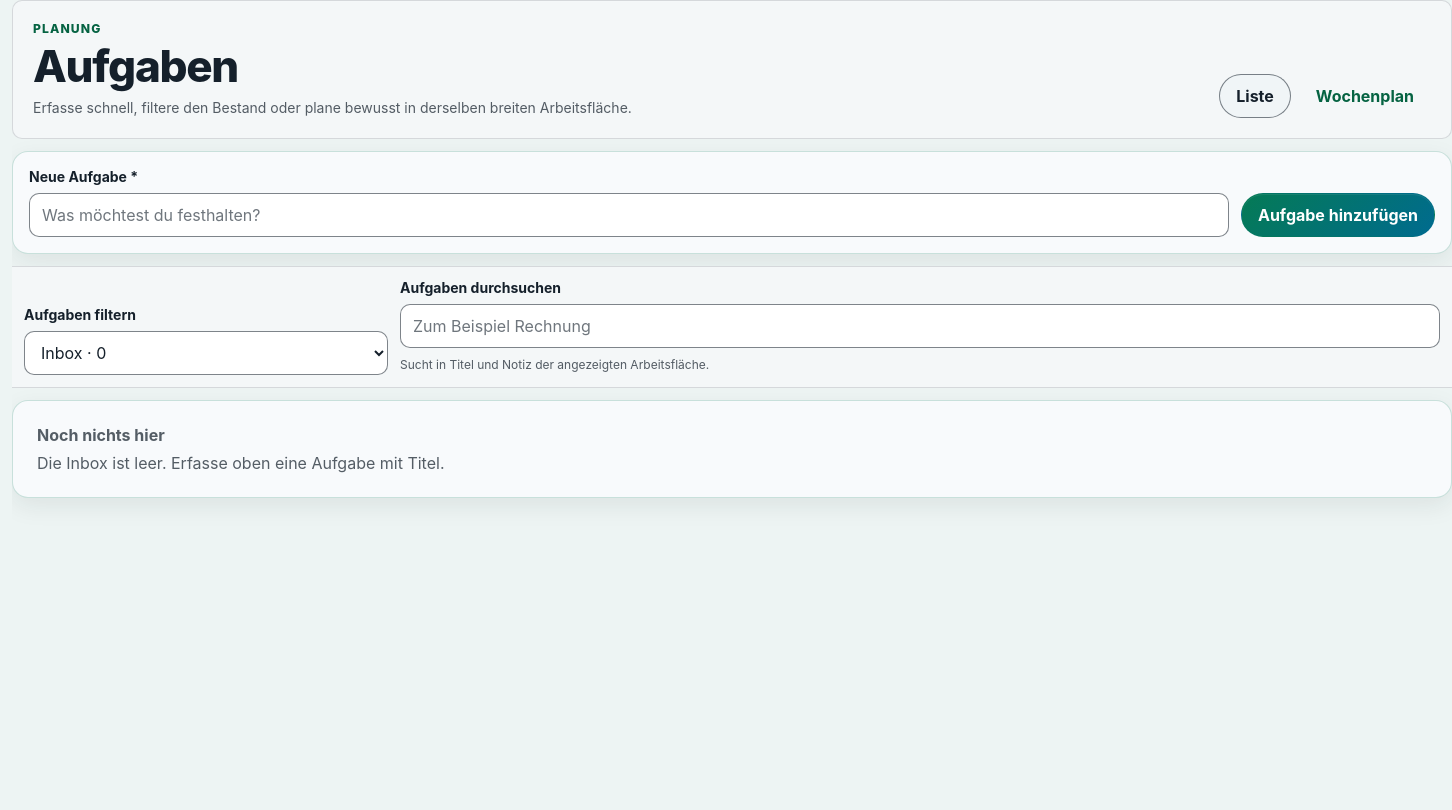
TasksPage › distinguishes the weekly list from the day-by-day plan
Select "Wochenliste · 1" in the dropdown labelled "Aufgaben filtern" at (206, 353), box [24,331,388,375]
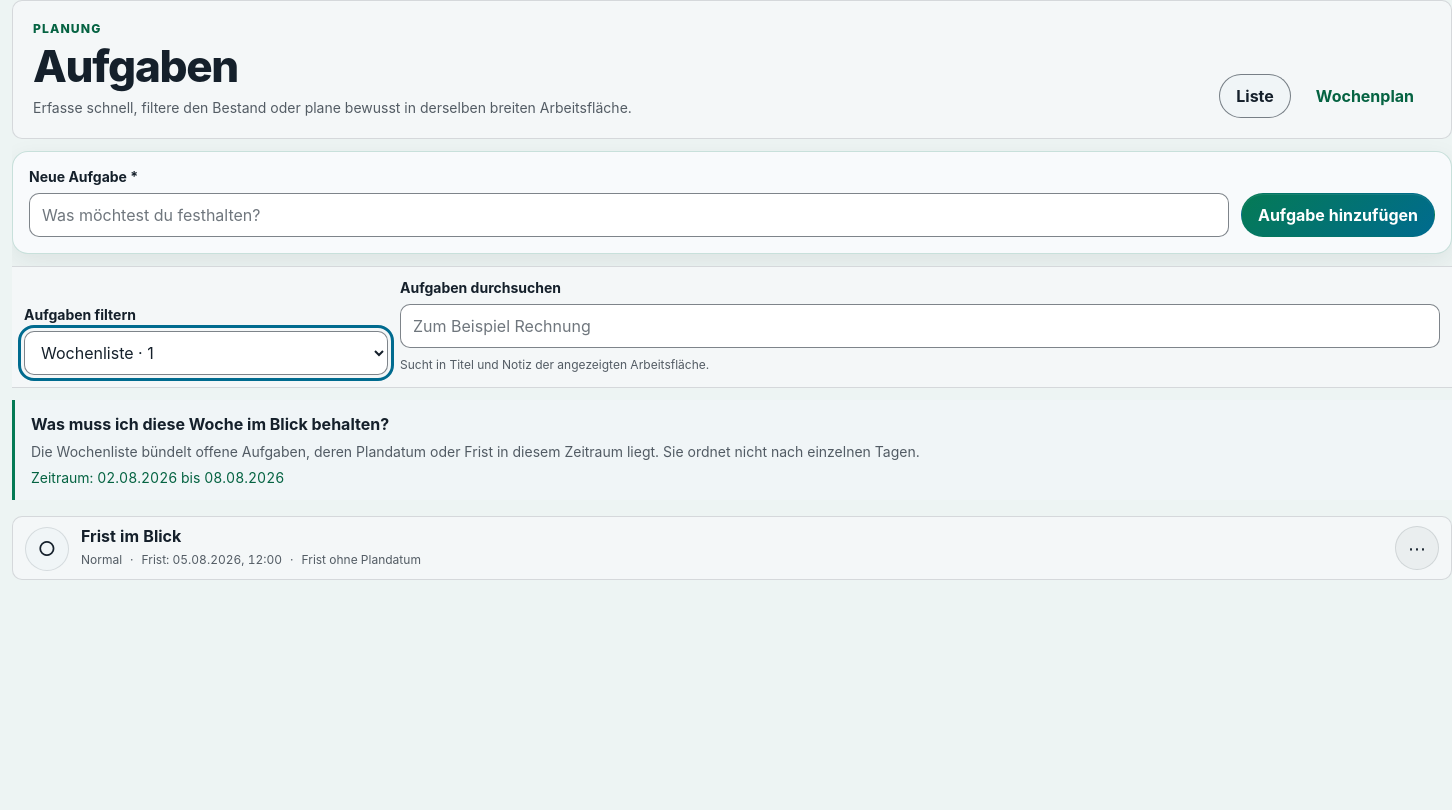
Check: the element named "Zweck dieser Ansicht" shows "Was muss ich diese Woche im Blick behalten?", box [31,414,389,434]
Check: the element named "Zweck dieser Ansicht" shows "Zeitraum: 02.08.2026 bis 08.08.2026", box [12,400,1451,500]
Click the button "Wochenplan".
click(1365, 96)  # box [1299,74,1431,118]
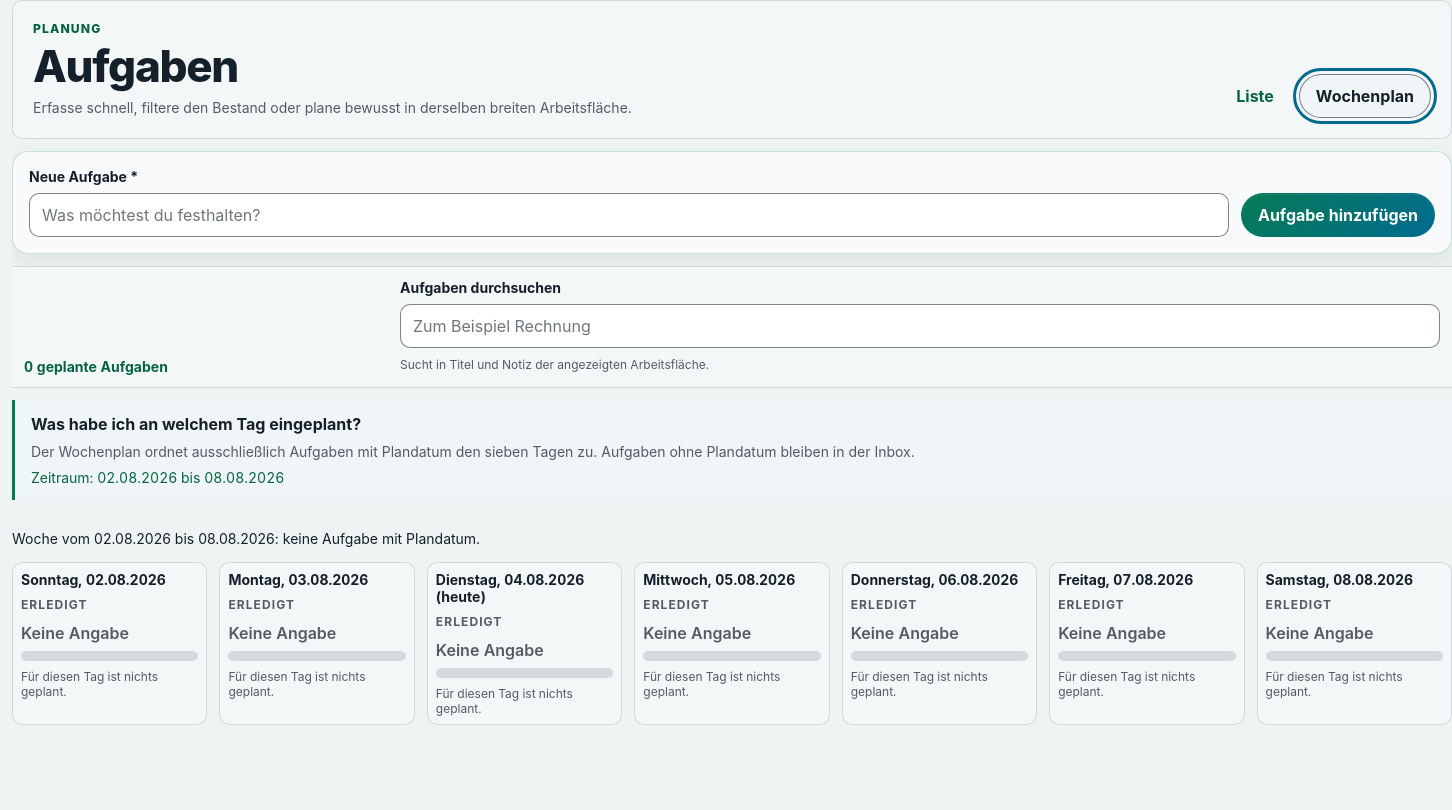
Check: the element named "Zweck dieser Ansicht" shows "Zeitraum: 02.08.2026 bis 08.08.2026", box [12,400,1451,500]
Check: the element named "Zweck dieser Ansicht" shows "Was habe ich an welchem Tag eingeplant?", box [31,414,361,434]
